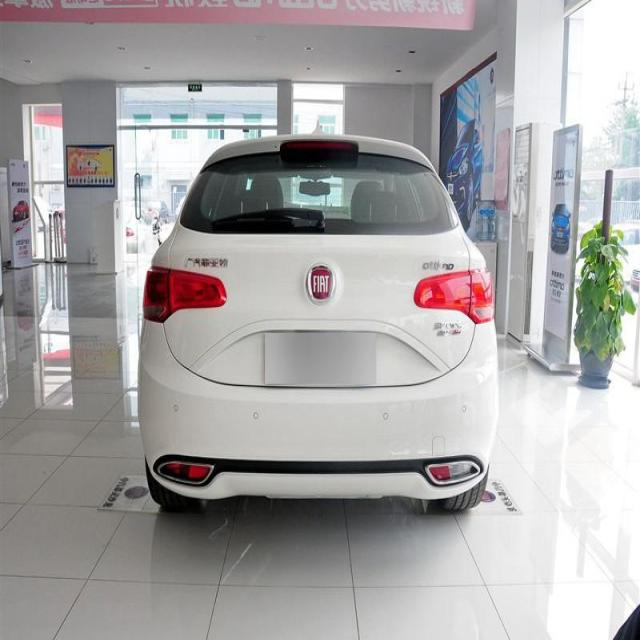back_glass: (180, 149, 460, 237)
back_left_side_light: (142, 264, 228, 320)
back_right_side_light: (414, 266, 495, 324)
rear_bumper: (138, 316, 498, 501)
